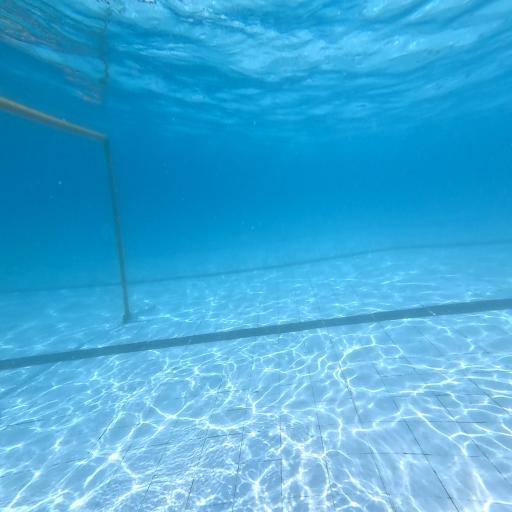gate: (1, 98, 154, 359)
